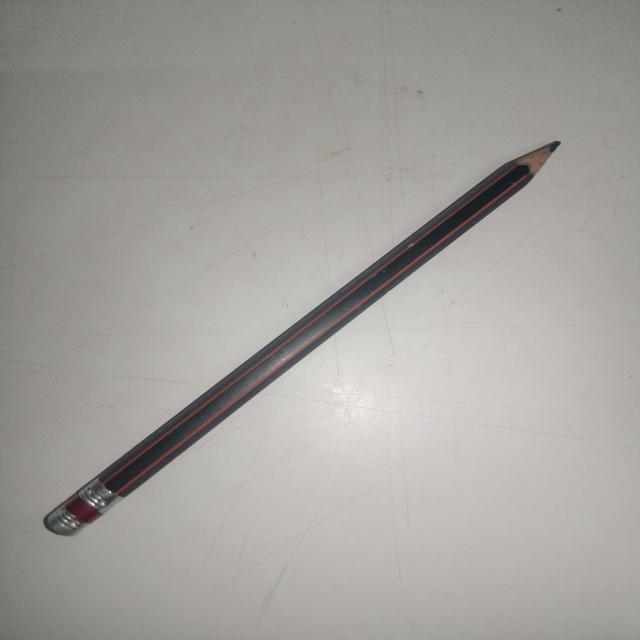pen_pencil: (0, 104, 607, 588)
